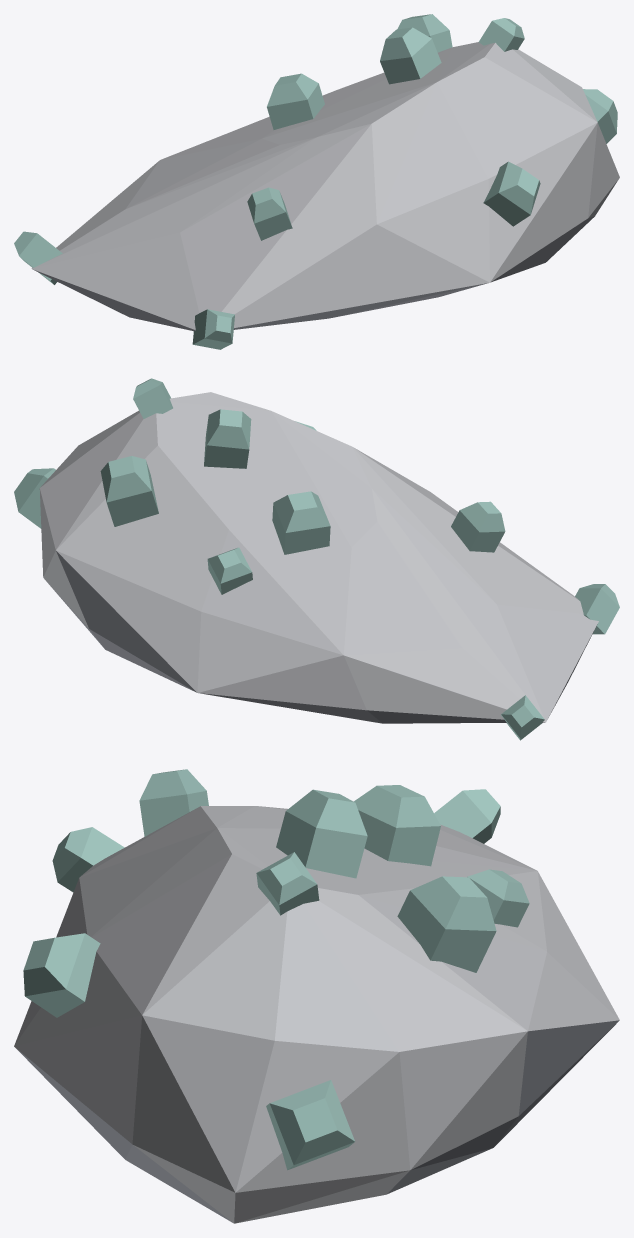
File: SM_MR_Crystal_Small_03.fbx
3 views of the same model, one above another, from view 1: azimuth 30°, elevation 25°; view 2: azimuth 150°, elevation 25°; view 3: azimuth 270°, elevation 25° (orthographic). The views are drawn at different scales.
Parts seen in each view (by area): view 1: SM_MR_Crystal_Small_03; view 2: SM_MR_Crystal_Small_03; view 3: SM_MR_Crystal_Small_03.
Part boxes in pixels (left/top/right/bottom): SM_MR_Crystal_Small_03: left=14, top=14, right=619, bottom=349; SM_MR_Crystal_Small_03: left=14, top=378, right=619, bottom=740; SM_MR_Crystal_Small_03: left=14, top=769, right=619, bottom=1223.
Size of the model in its own units: 0.35 by 0.2187 by 0.1265.
